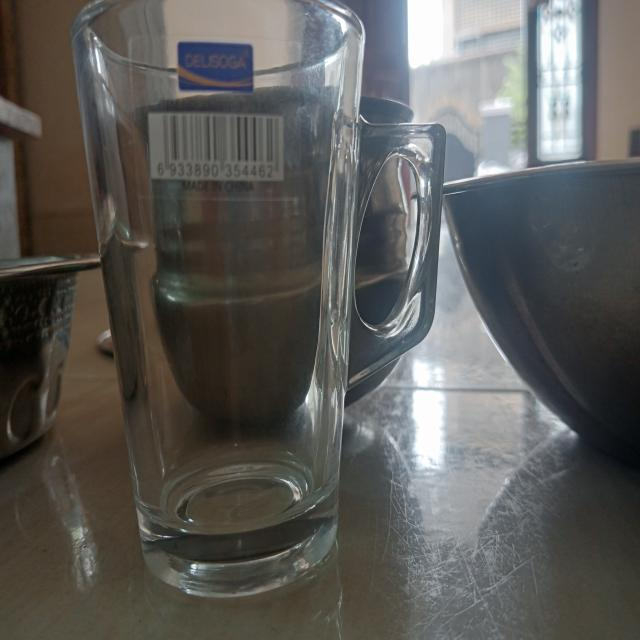glass-VX4N: (70, 0, 447, 598)
